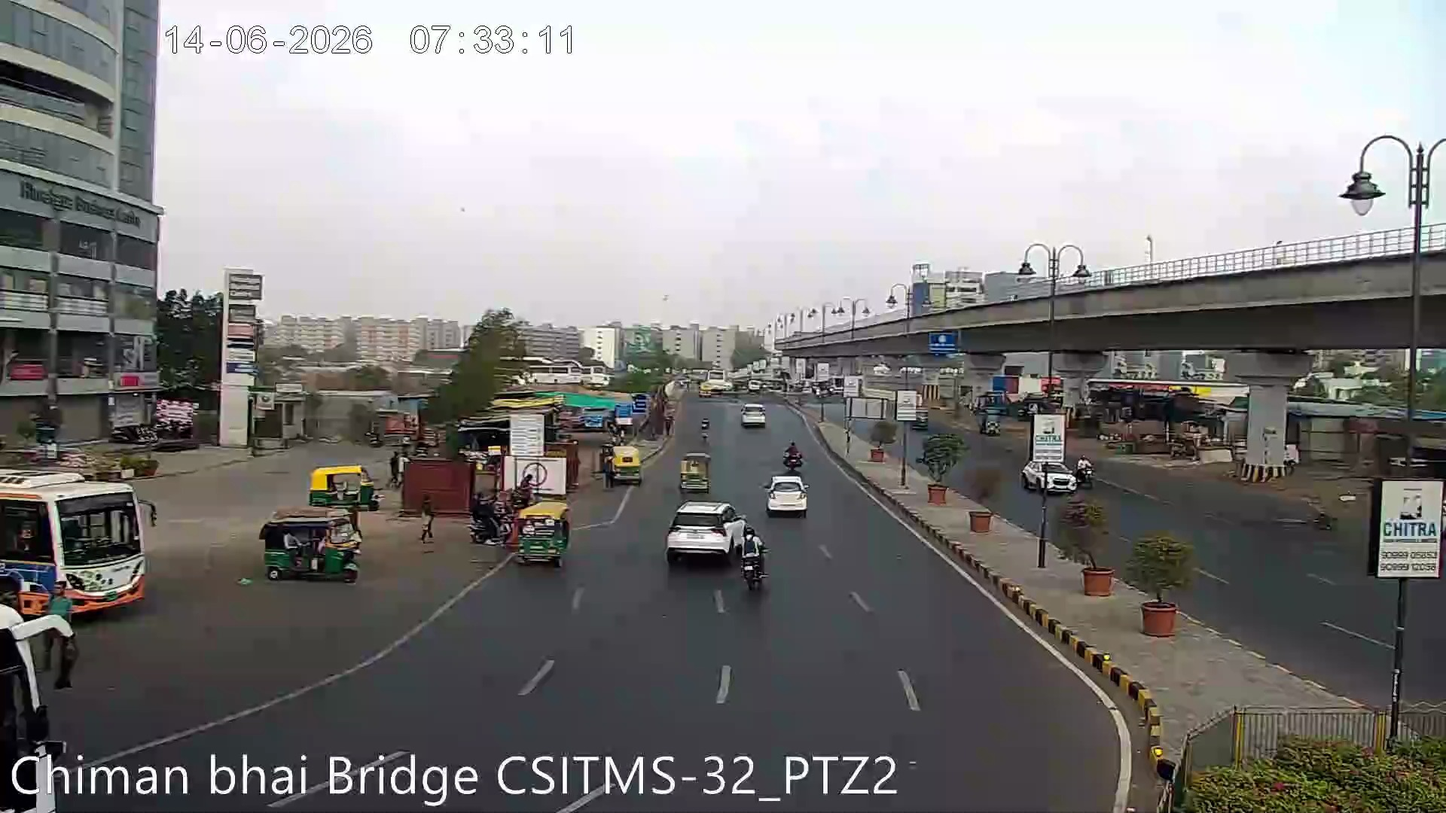auto_rickshaw: (256, 502, 365, 583), (513, 500, 571, 566), (307, 459, 374, 508), (677, 450, 714, 493), (607, 444, 645, 485), (739, 399, 768, 429)
bus: (0, 455, 163, 626)
car: (664, 496, 742, 562), (1019, 457, 1075, 492), (765, 470, 808, 515)
pedestrian: (415, 490, 440, 554)
two_wheeler: (738, 529, 770, 594), (780, 439, 807, 473), (1076, 451, 1098, 487), (696, 411, 715, 443)
